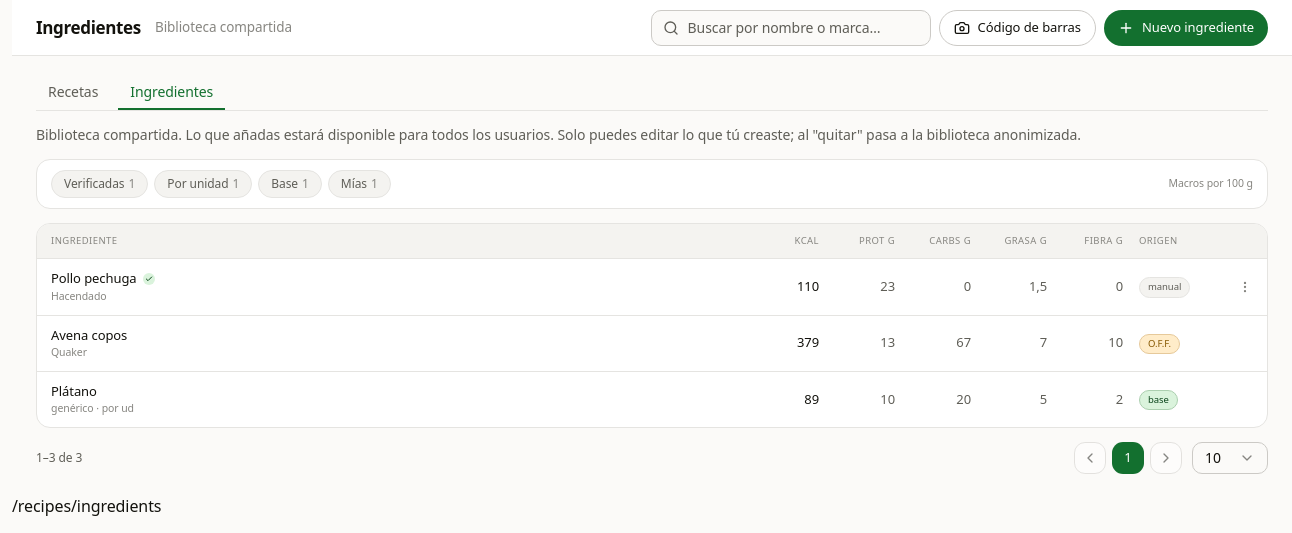
IngredientesPage › AND-combines two chips
Click the button "Verificadas 1" at (100, 184), box [51,170,148,198]
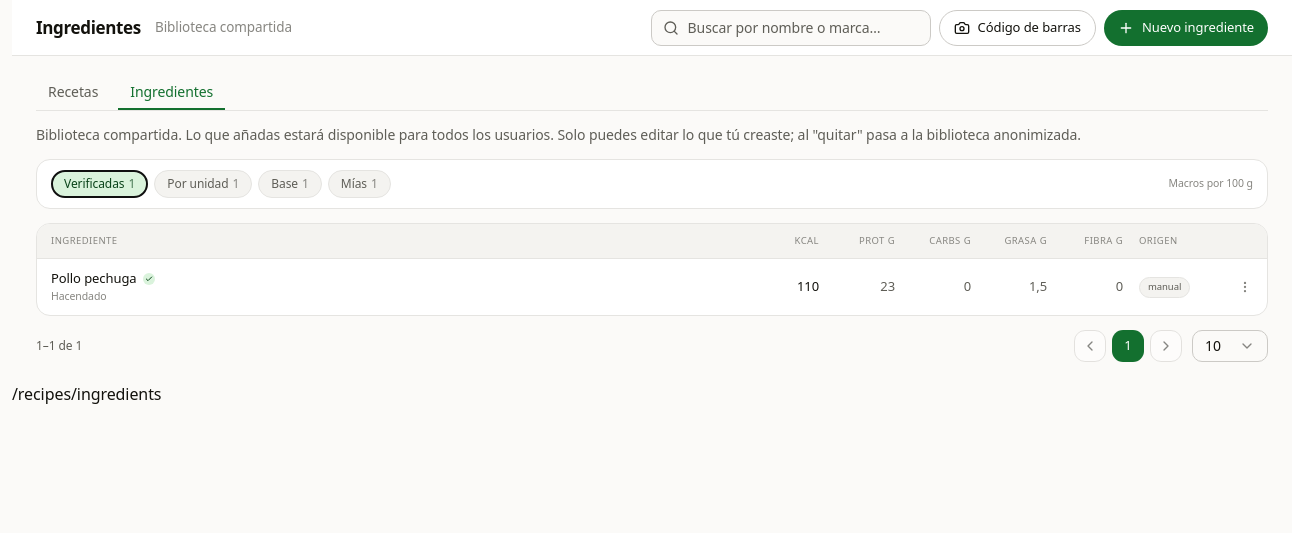
Click the button "Por unidad 1" at (203, 184), box [154,170,252,198]
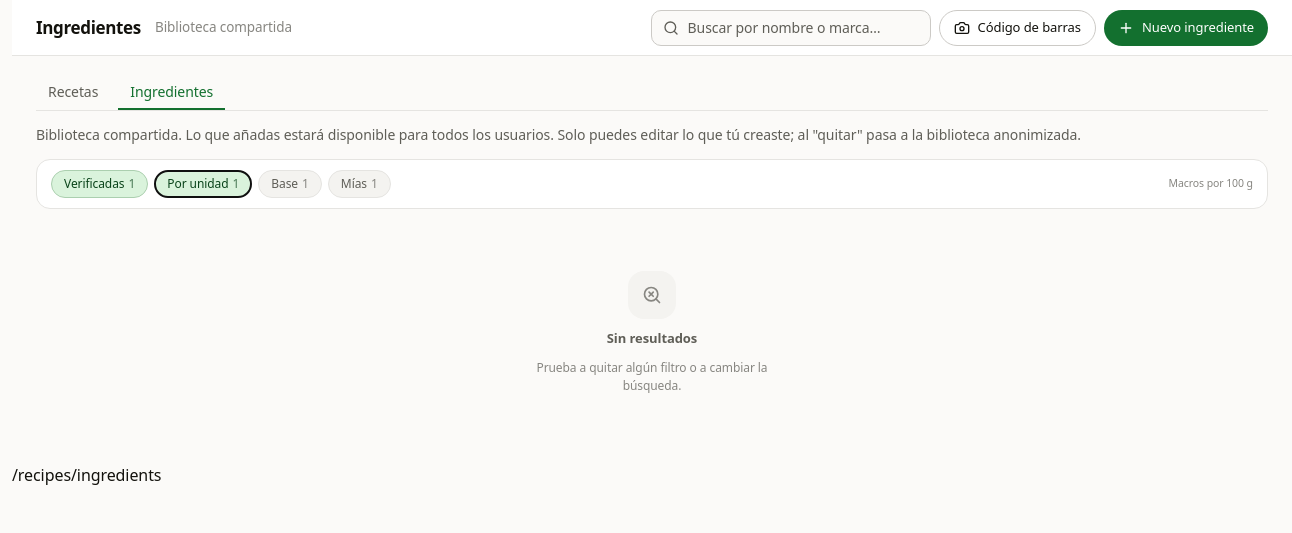
Now the text "Sin resultados" is shown, box [607,329,697,348]
